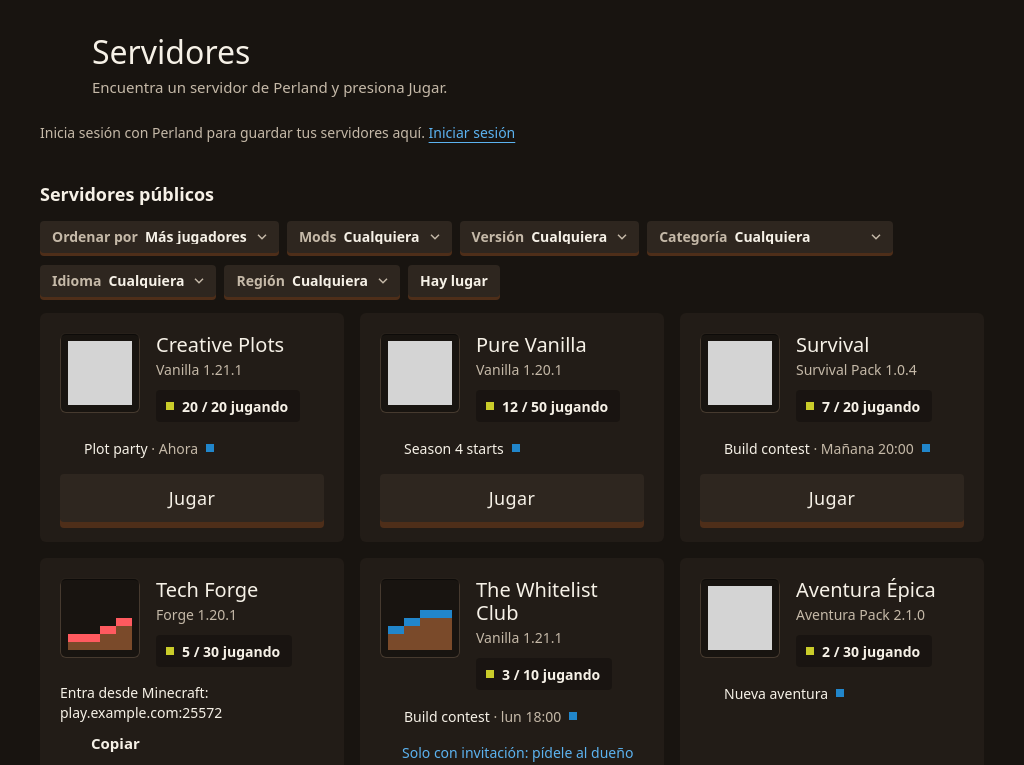
Test: the news dialog › a modpack post reads in the player's language
This screenshot has width=1024, height=765.
Click the button with aria-label "Novedades: ". click: (832, 448)
box: [692,432,972,464]
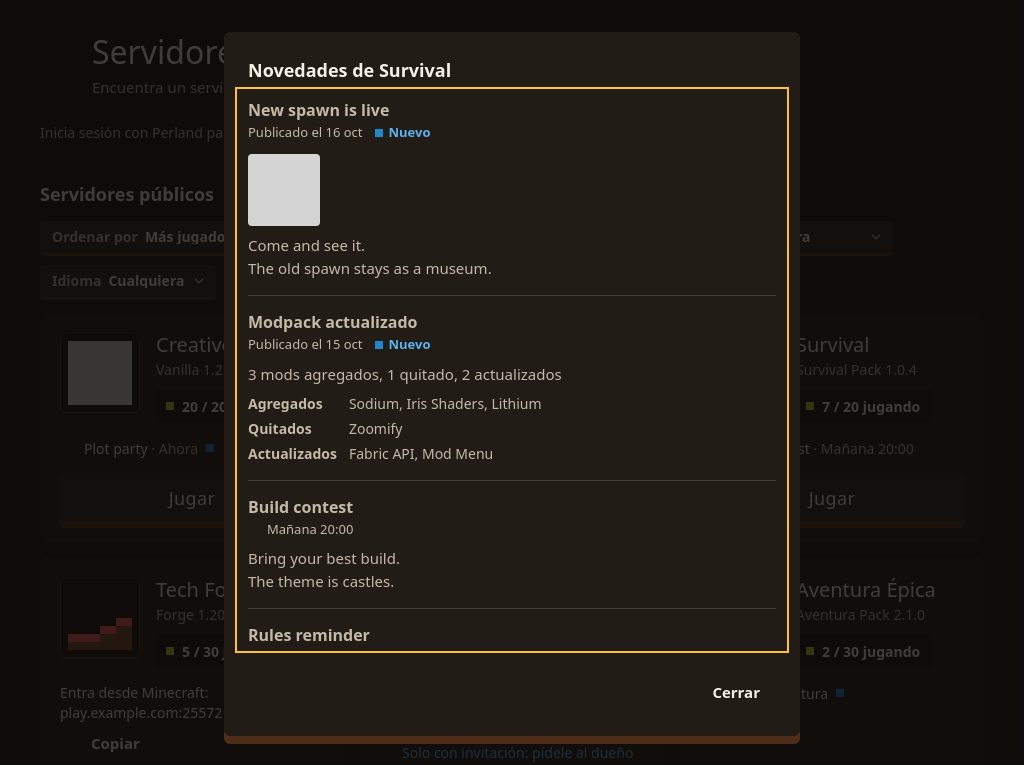
Check: the number of headings "Modpack actualizado" is 2
Check: the text "3 mods agregados, 1 quitado, 2 actualizados" is shown, box [248,364,562,384]
Check: the text "Sodium, Iris Shaders, Lithium" is shown, box [349,394,542,413]
